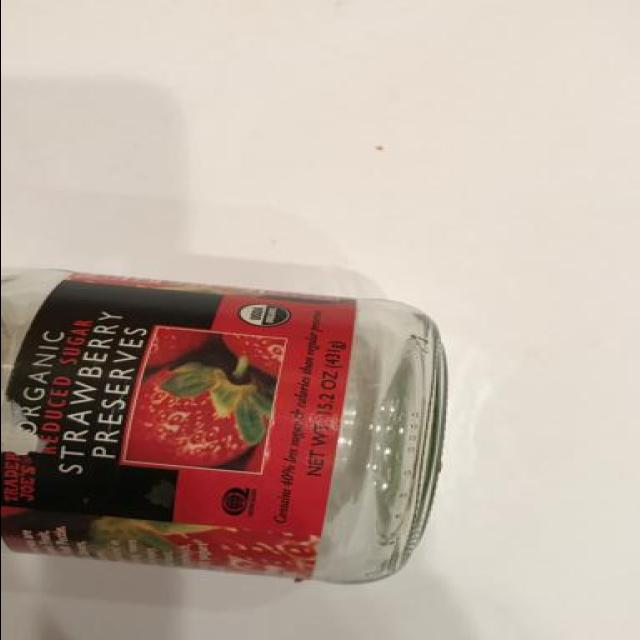litter: (0, 265, 449, 585)
